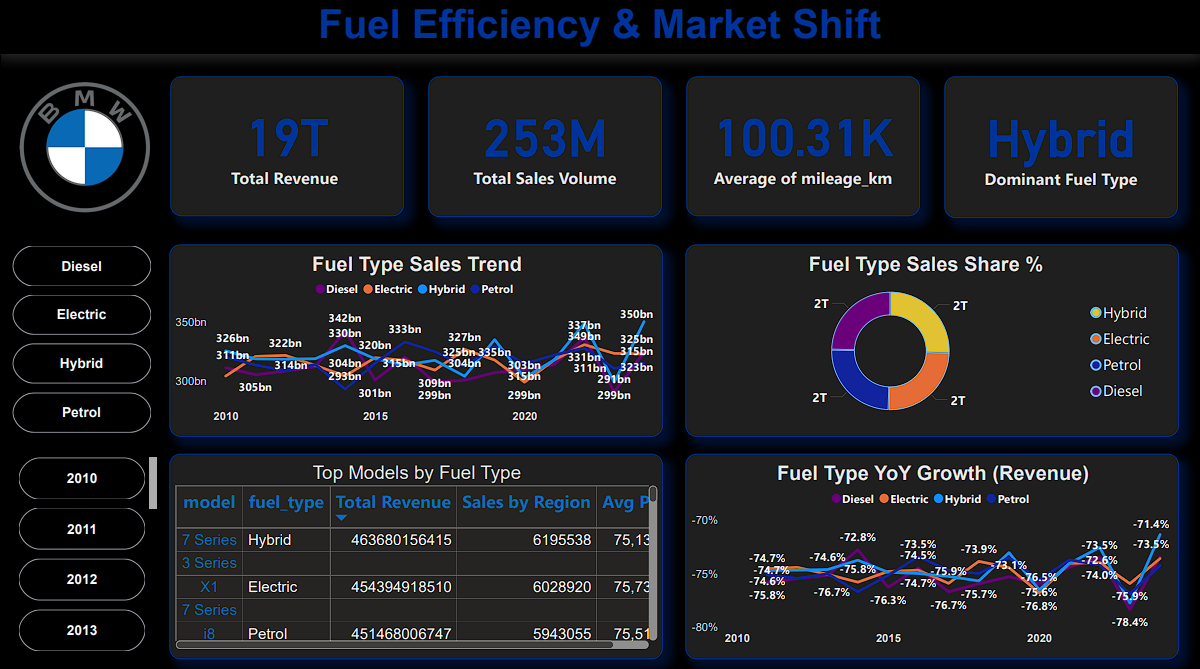

What the dashboard file says about the page in this screenshot:
{"tool":"powerbi","page":{"name":"FEMS","canvas":[1280,720],"ordinal":3},"visuals":[{"type":"textbox","title":"Fuel Efficiency & Market Shift","box":[0,0,1280.3,61.7],"z":0},{"type":"card","fields":{"Values":["BMW_Sales.Total Revenue"]},"box":[181.5,85.1,249,149],"z":1},{"type":"card","fields":{"Values":["BMW_Sales.Total Sales Volume"]},"box":[456.5,85.2,249.7,149.6],"z":2},{"type":"card","fields":{"Values":["Avg(BMW_Sales.mileage_km)"]},"box":[731.5,85.1,249,149],"z":3},{"type":"card","fields":{"Values":["BMW_Sales.Dominant Fuel Type"]},"box":[1006.5,85.1,249.7,150.9],"z":4},{"type":"advancedSlicerVisual","fields":{"Values":["BMW_Sales.fuel_type"]},"box":[12.1,264.4,151.1,203.7],"z":5},{"type":"advancedSlicerVisual","title":"Year ","fields":{"Values":["BMW_Sales.year"]},"box":[18.9,487,151.1,218.6],"z":6},{"type":"lineChart","title":"Fuel Type Sales Trend","fields":{"Category":["BMW_Sales.year"],"Y":["BMW_Sales.Total Revenue"],"Series":["BMW_Sales.fuel_type"]},"box":[181.4,264.3,525.7,204.3],"z":7},{"type":"donutChart","title":"Fuel Type Sales Share %","fields":{"Y":["BMW_Sales.Total Revenue"],"Category":["BMW_Sales.fuel_type","BMW_Sales.model"]},"box":[731.4,264.3,525.7,204.3],"z":8},{"type":"tableEx","title":"Top Models by Fuel Type","fields":{"Values":["BMW_Sales.model","BMW_Sales.fuel_type","BMW_Sales.Total Revenue","BMW_Sales.Sales by Region","BMW_Sales.Avg Price"]},"box":[181.4,487.1,525.7,218.6],"z":9},{"type":"areaChart","title":"Fuel Type YoY Growth (Revenue)","fields":{"Category":["BMW_Sales.year"],"Y":["BMW_Sales.YoY Growth %"],"Series":["BMW_Sales.fuel_type"]},"box":[731.4,487.1,525.7,218.6],"z":10},{"type":"image","box":[0,85,182,150],"z":11}]}

Visuals, with their boxes in screenshot pixels (x1, y1, x2, y2), scaled from the page's 1280x720 canvas onto the 1200x669 screenshot:
"Fuel Efficiency & Market Shift" textbox: Rect(0, 0, 1199, 57)
card - BMW_Sales.Total Revenue: Rect(170, 79, 404, 218)
card - BMW_Sales.Total Sales Volume: Rect(428, 79, 662, 218)
card - Avg(BMW_Sales.mileage_km): Rect(686, 79, 919, 218)
card - BMW_Sales.Dominant Fuel Type: Rect(944, 79, 1178, 219)
advancedSlicerVisual - BMW_Sales.fuel_type: Rect(11, 246, 153, 435)
"Year " advancedSlicerVisual: Rect(18, 453, 159, 656)
"Fuel Type Sales Trend" lineChart: Rect(170, 246, 663, 435)
"Fuel Type Sales Share %" donutChart: Rect(686, 246, 1179, 435)
"Top Models by Fuel Type" tableEx: Rect(170, 453, 663, 656)
"Fuel Type YoY Growth (Revenue)" areaChart: Rect(686, 453, 1179, 656)
image: Rect(0, 79, 171, 218)
